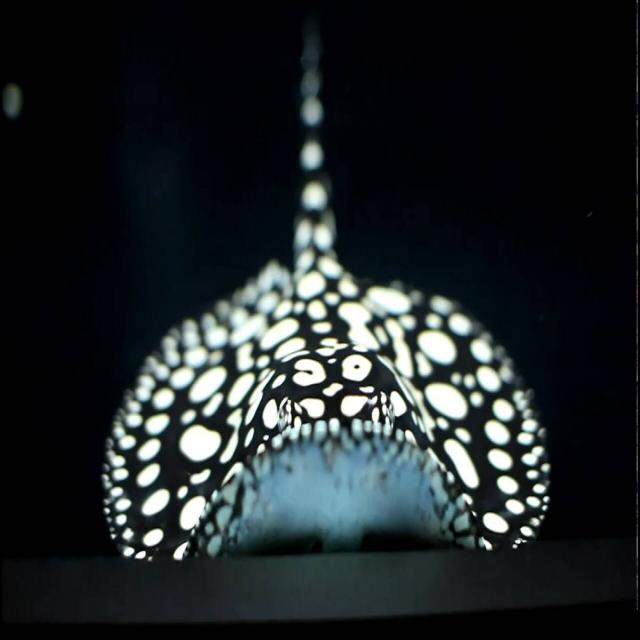black-diamond-sting-ray: (80, 3, 568, 631)
